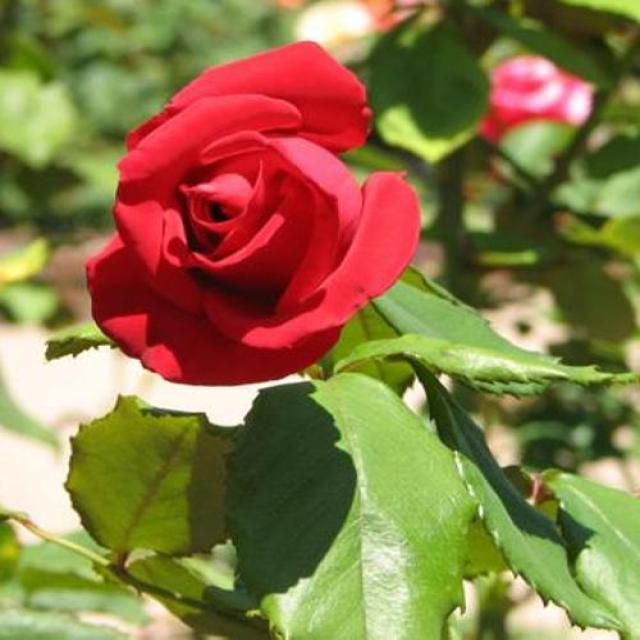rose: (63, 16, 446, 414)
